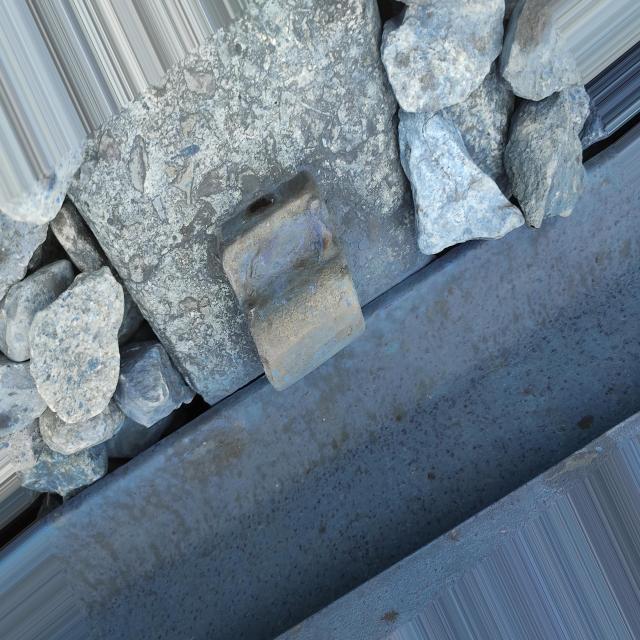Missing Fastener: (185, 162, 414, 413)
